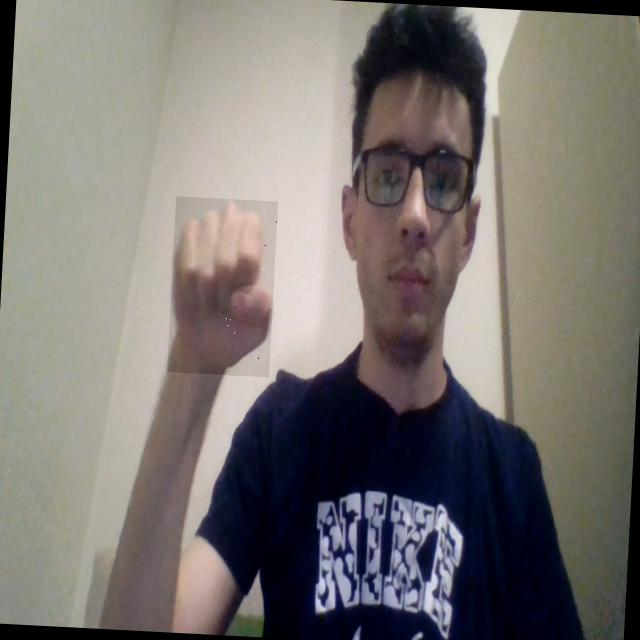yes: (167, 196, 278, 378)
